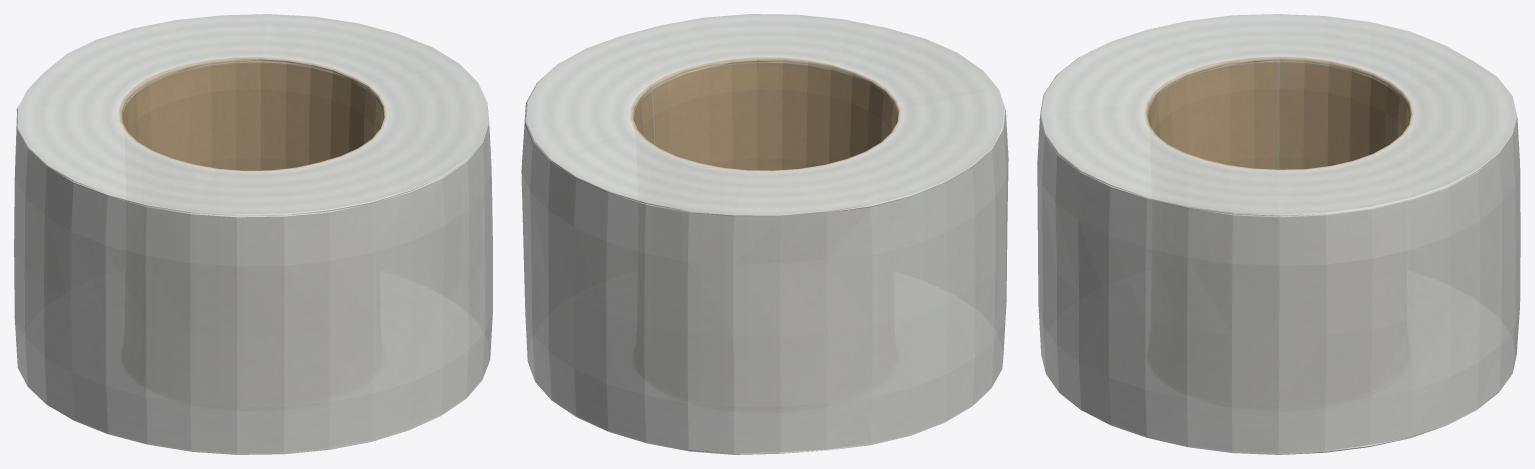
Rendered from LiftingTapeRoll.obj.
3 views of the same model, side by side, from view 1: azimuth 30°, elevation 25°; view 2: azimuth 150°, elevation 25°; view 3: azimuth 270°, elevation 25° (orthographic).
Parts seen in each view (by area): view 1: medical_tape_tape, medical_tape_core; view 2: medical_tape_tape, medical_tape_core; view 3: medical_tape_tape, medical_tape_core.
Boxes of the visible parts, <box> form: medical_tape_tape: <box>14,14,492,454</box>; medical_tape_core: <box>120,58,384,170</box>; medical_tape_tape: <box>521,14,1008,454</box>; medical_tape_core: <box>632,58,898,170</box>; medical_tape_tape: <box>1037,14,1520,454</box>; medical_tape_core: <box>1146,57,1411,169</box>.
Size of the model in its own units: 0.0906 by 0.0501 by 0.0904.
2 materials, 2 textured.
